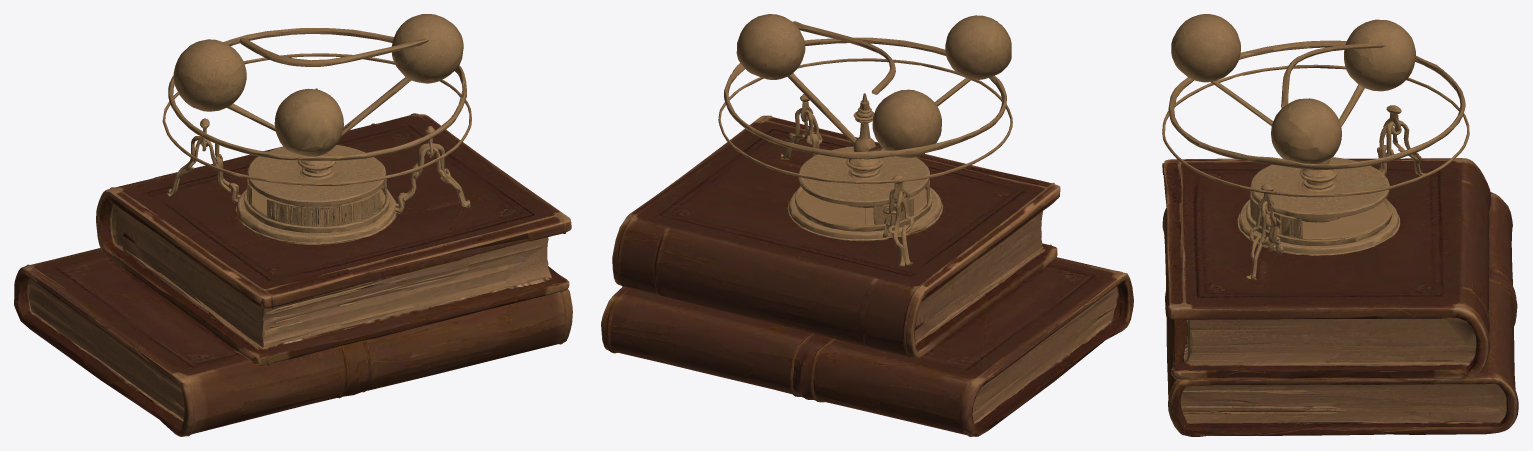
Rendered from orrery.glb.
The picture shows the model from 3 angles, left to right: view 1: azimuth 30°, elevation 25°; view 2: azimuth 150°, elevation 25°; view 3: azimuth 270°, elevation 25°; orthographic projection. The views are drawn at different scales.
Bounding box in the file's own units: 1.9 × 1.4 × 1.5.
Materials: 1 (1 with a texture image).
